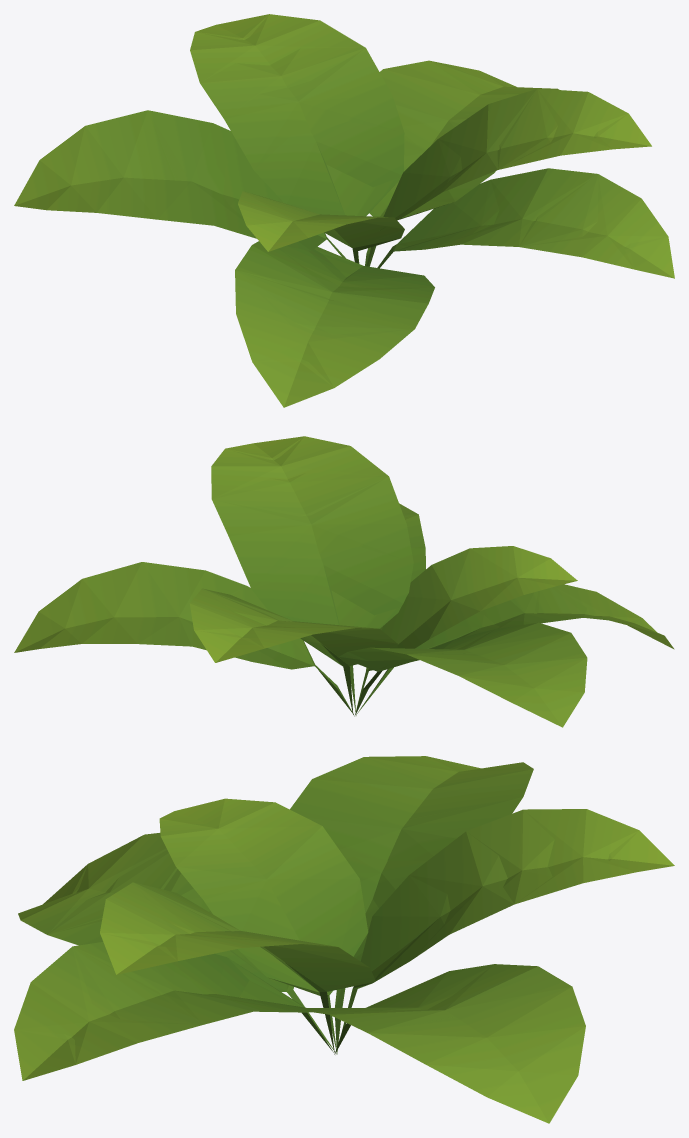
File: Mesh_Nature_Plant_01.obj
3 renders of one model, top to bottom at view 1: azimuth 30°, elevation 25°; view 2: azimuth 150°, elevation 25°; view 3: azimuth 270°, elevation 25°, orthographic. The views are drawn at different scales.
Visible parts, largest first — view 1: Mesh_Nature_Plant_01_M_LowPolyFarm_MAIN; view 2: Mesh_Nature_Plant_01_M_LowPolyFarm_MAIN; view 3: Mesh_Nature_Plant_01_M_LowPolyFarm_MAIN.
Boxes of the visible parts, left/top/right/bottom form: Mesh_Nature_Plant_01_M_LowPolyFarm_MAIN: left=14, top=14, right=674, bottom=407; Mesh_Nature_Plant_01_M_LowPolyFarm_MAIN: left=14, top=436, right=674, bottom=727; Mesh_Nature_Plant_01_M_LowPolyFarm_MAIN: left=14, top=756, right=674, bottom=1123.
Size of the model in its own units: 1.16 by 0.3757 by 1.04.
1 material, 1 textured.
